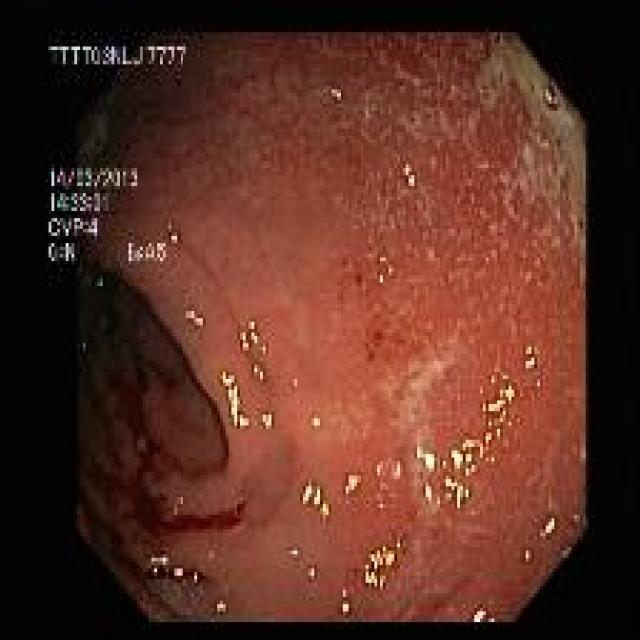ulcerative-colitis: (81, 33, 586, 621)
